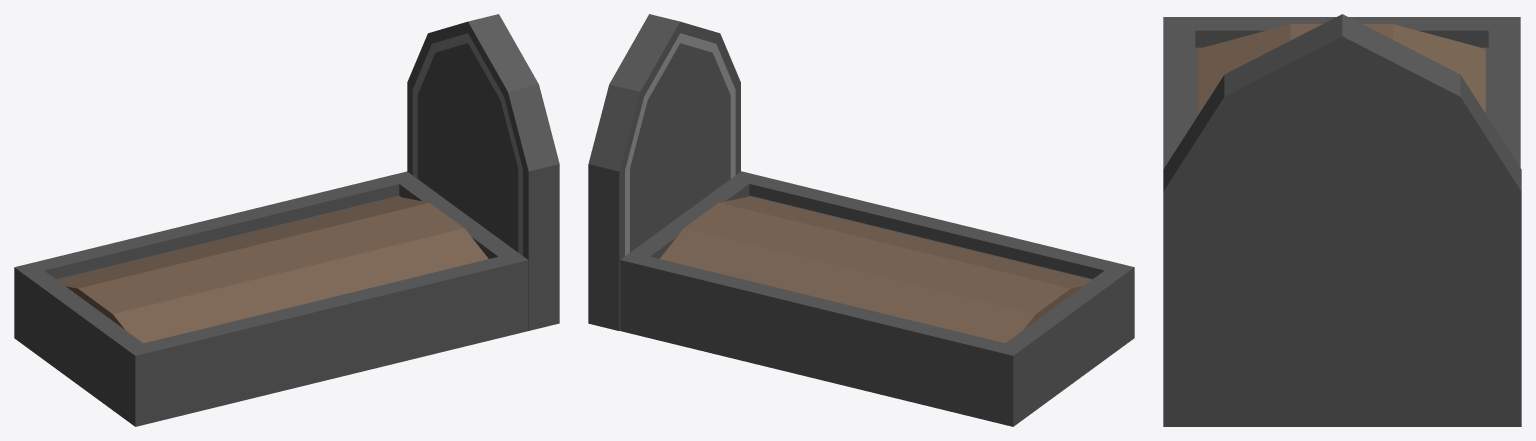
Rendered from grave_02.fbx.
3 renders of one model, left to right at view 1: azimuth 30°, elevation 25°; view 2: azimuth 150°, elevation 25°; view 3: azimuth 270°, elevation 25°, orthographic. The views are drawn at different scales.
Parts seen in each view (by area): view 1: grave_02; view 2: grave_02; view 3: grave_02.
Boxes of the visible parts, x1,y1,x2,y2 form: grave_02: [14, 14, 559, 426]; grave_02: [588, 14, 1134, 426]; grave_02: [1163, 14, 1521, 426].
Bounding box in the file's own units: 1.6 × 0.7931 × 0.9544.
